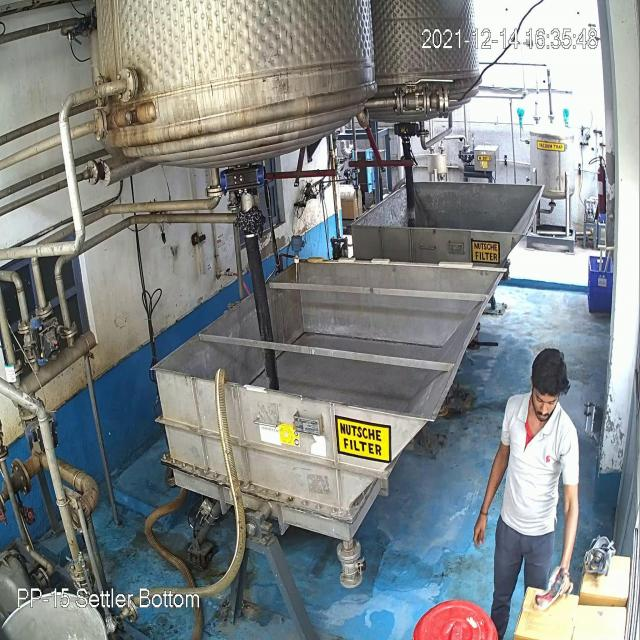No_Gloves: (25, 100, 566, 542)
